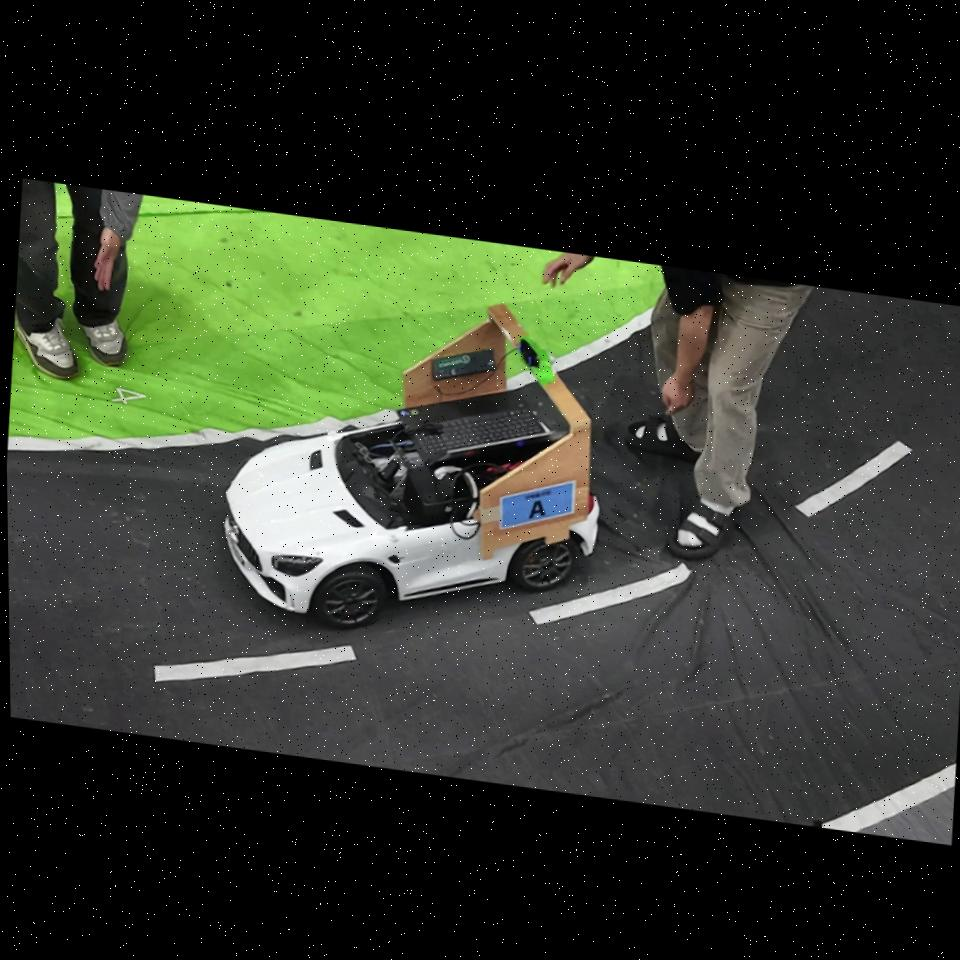broken_line: (529, 562, 691, 625), (794, 441, 913, 518), (154, 645, 357, 682)
